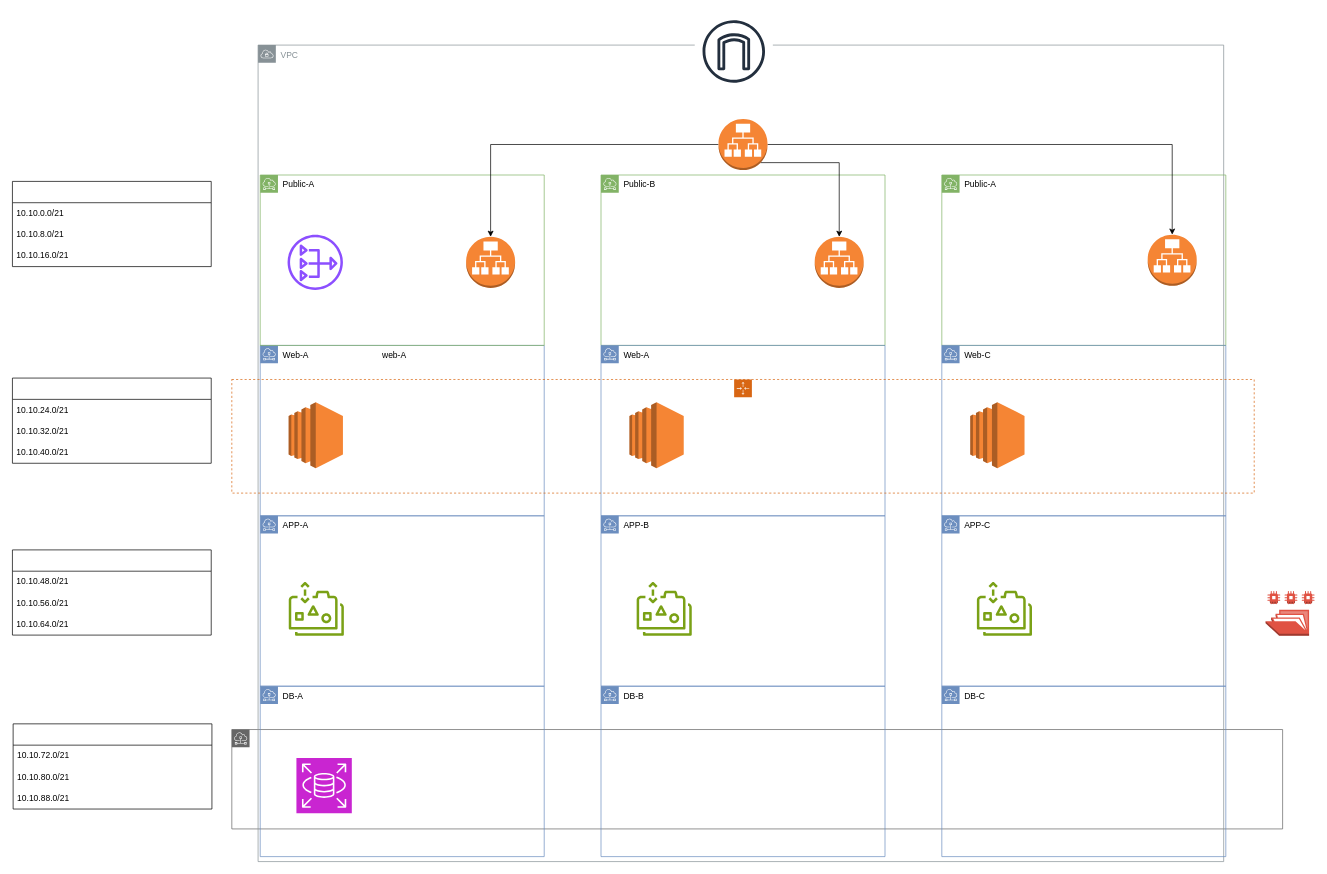
Some shapes in this 1327 by 874 pixel diagram are drawn without their labels. The shapes that lost their labels are listed below. From the top down, each one's box as (x1, y1, x2, y2) in pixels, then its label:
(694, 12, 773, 91): Internet gateway
(12, 181, 211, 267): CIDER FOR PUBLIC
(12, 377, 211, 463): CIDER FOR WEB
(231, 379, 1254, 493): Auto Scaling group
(12, 549, 211, 635): CIDER FOR APP
(12, 723, 212, 809): CIDER FOR DB
(231, 729, 1283, 829): DB-subnet.
